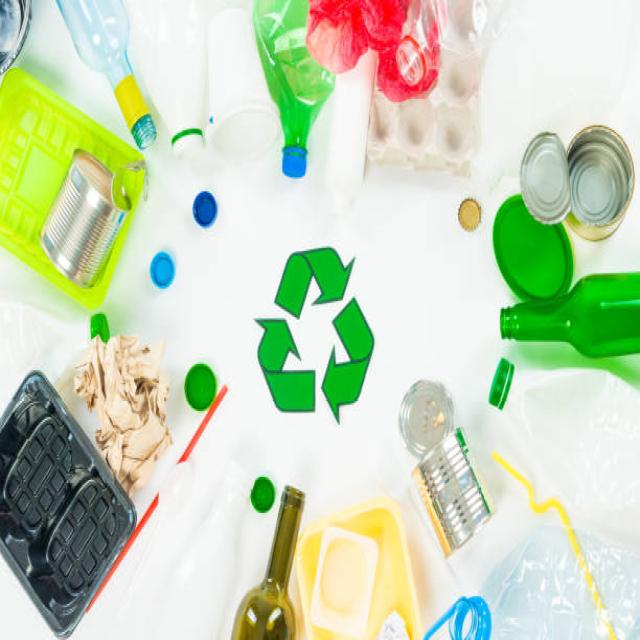glass: (224, 485, 305, 637)
metal: (388, 372, 496, 546), (518, 114, 632, 262), (42, 124, 120, 274)
plastic: (138, 8, 474, 171), (1, 361, 152, 629)
